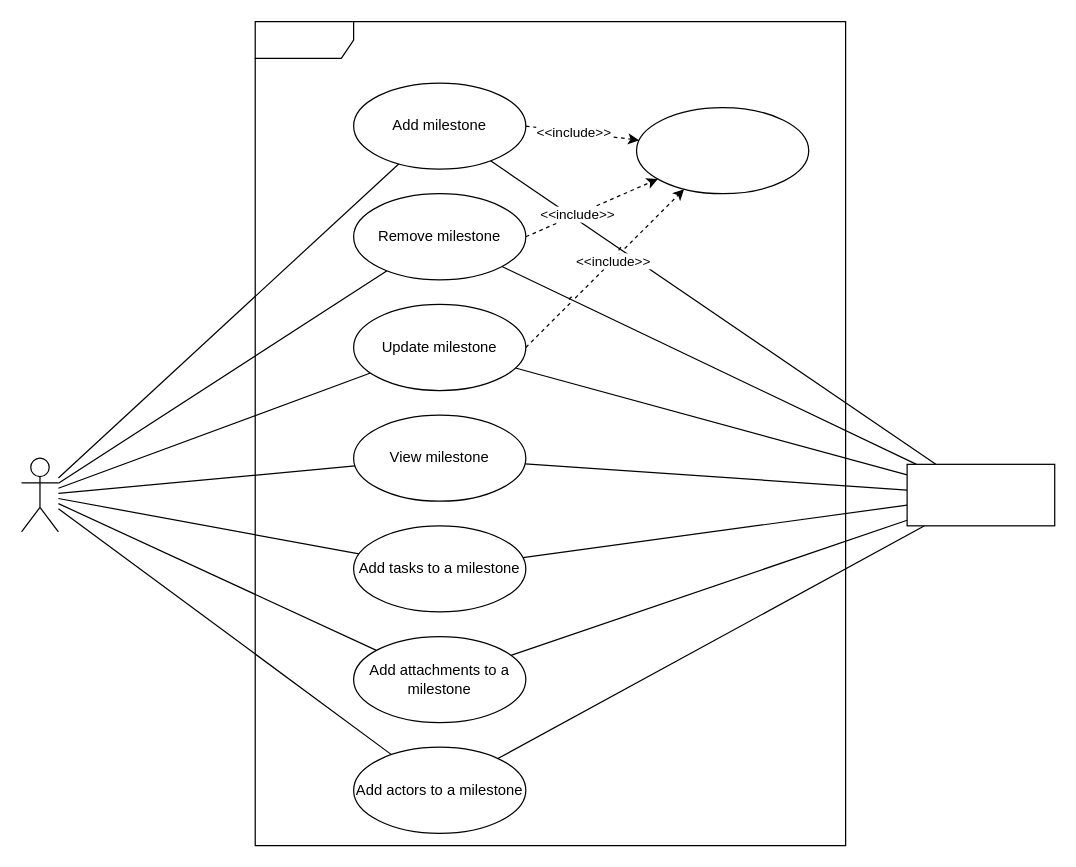
This 1076x867 diagram has some shape labels left out. The box of each missing label's shape, as (x1, y1, x2, y2) in pixels:
Actor: (20, 457, 58, 532)
DCU Milestone: (254, 20, 846, 846)
Respect milestone rules: (635, 106, 809, 194)
«actor» database: (906, 463, 1055, 526)
